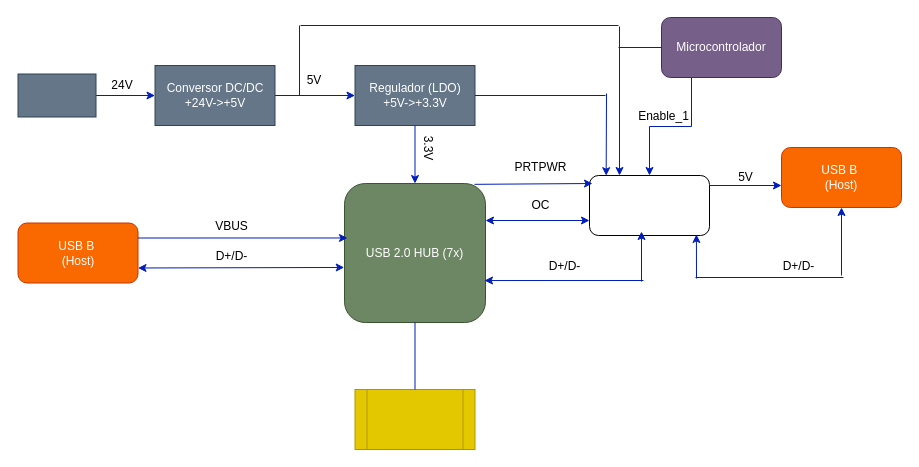
Some shapes in this 919 by 467 pixel diagram are drawn without their labels. The shapes that lost their labels are listed below. From the top down, each one's centre as x and y in pixels, then its label:
At point 56,95: "Power Supply (+24VDC)".
At point 649,205: "Mecanismos de comutação_1 e Over-Current switch".
At point 414,419: "Cristal 24MHz".
